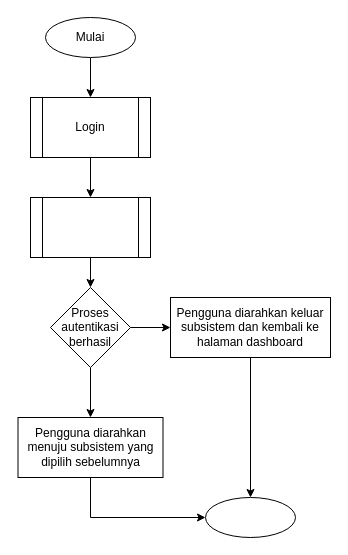
Image size: 348x555. Some labels were removed from this diagram. The centre of each missing label's shape, as x and y in pixels:
Autentikasi: (90,227)
Selesai: (250,517)
